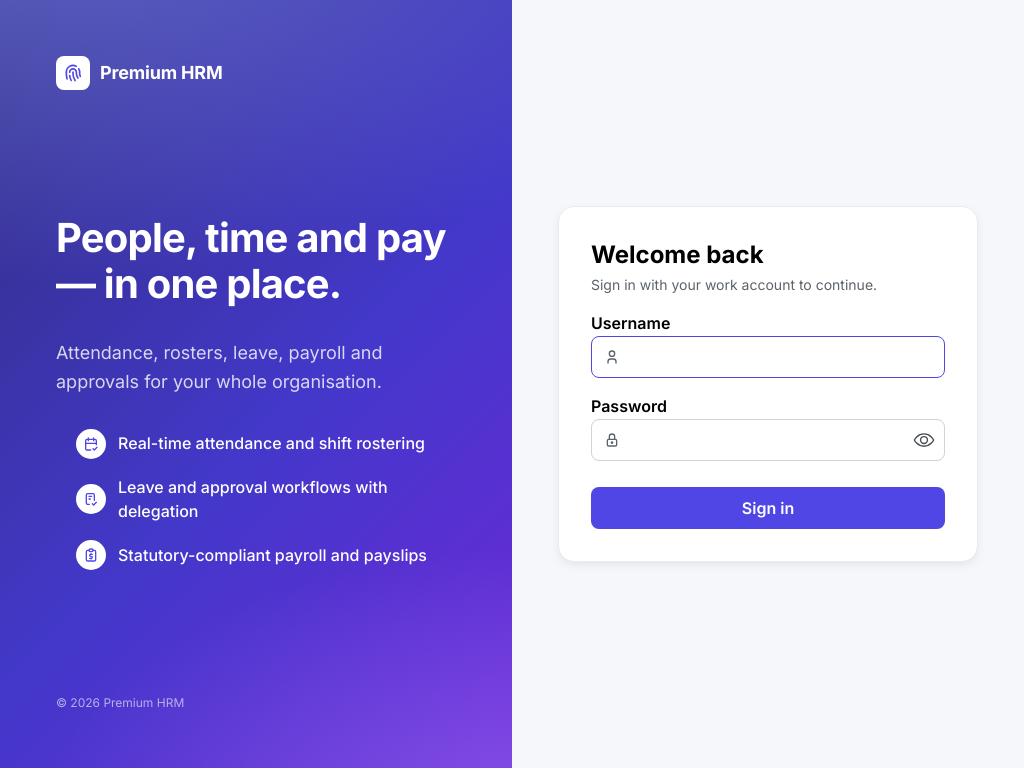
Test: LoginPage › FR-001 requires username and password
This screenshot has width=1024, height=768.
Click the button "Sign in".
click(768, 508)  # box [591,486,945,528]
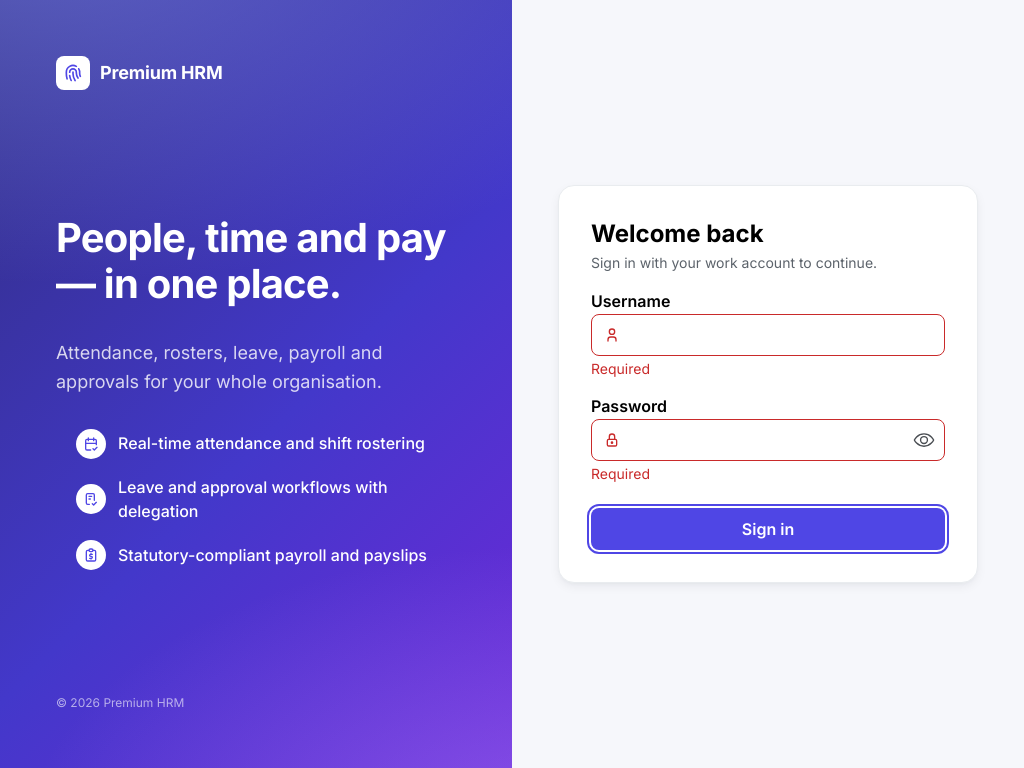
Check: the text "Required" is shown 2 times, box [591,360,650,377]; [591,464,650,482]
